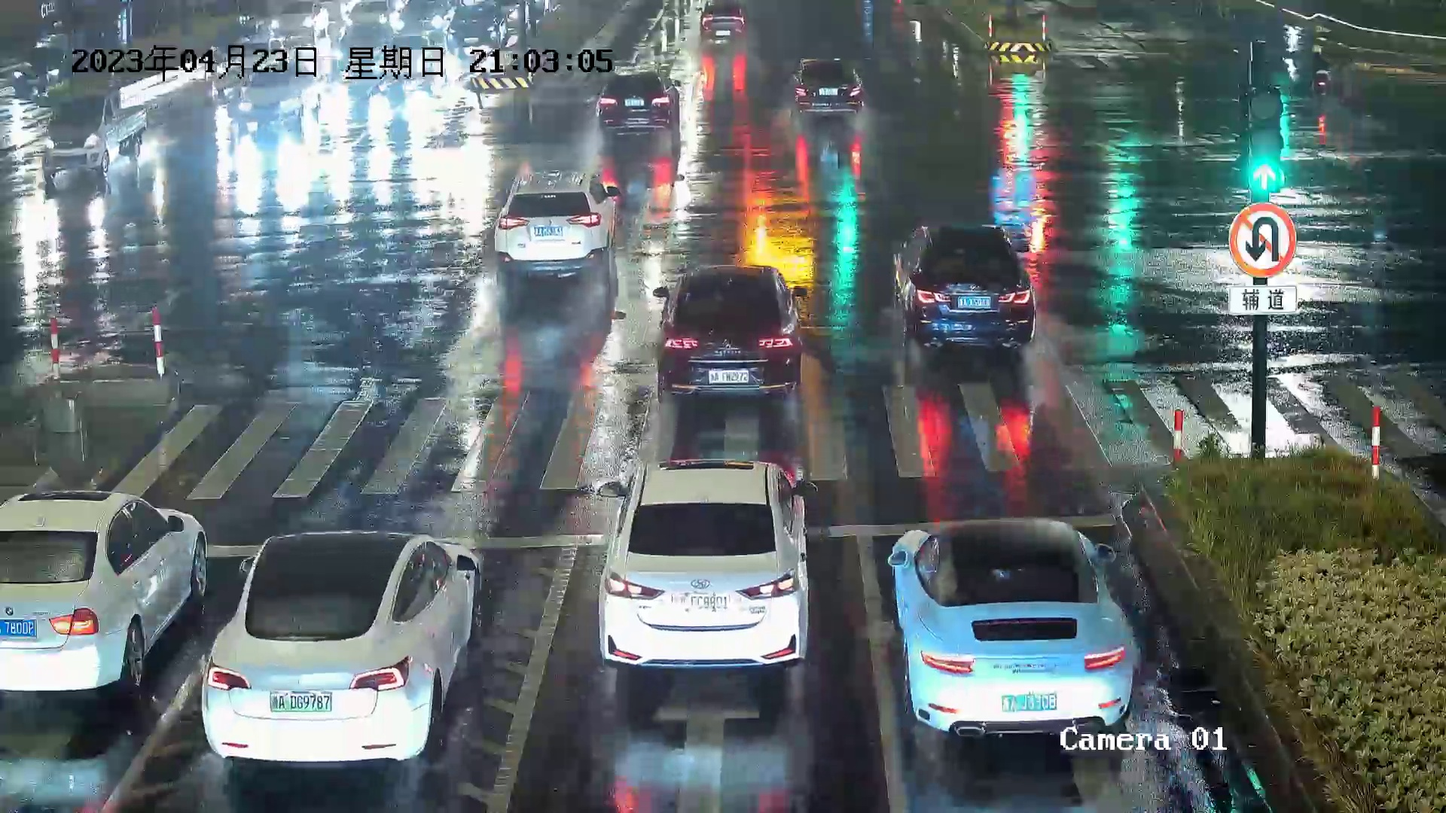vehicle: (197, 522, 489, 768), (883, 510, 1139, 749), (593, 449, 821, 682), (0, 481, 210, 705), (649, 257, 814, 408), (885, 206, 1045, 357), (485, 165, 625, 283), (26, 81, 161, 187), (593, 60, 684, 141), (785, 52, 868, 121), (697, 2, 749, 47)
